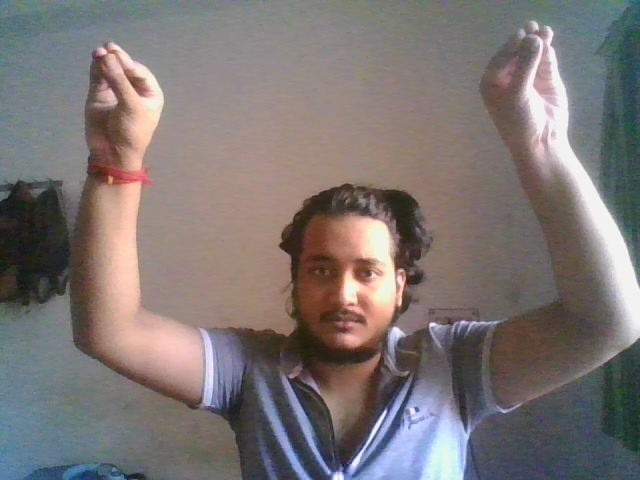Mouth: (480, 21, 570, 136), (85, 41, 166, 160)
